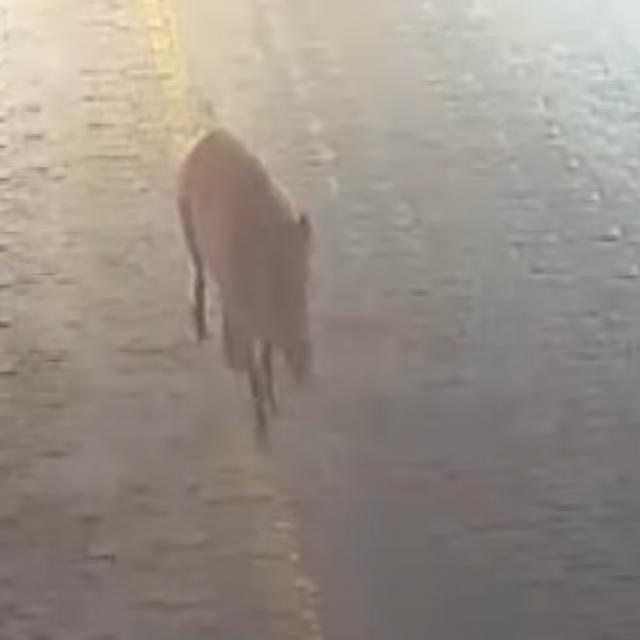boar: (145, 89, 344, 441)
